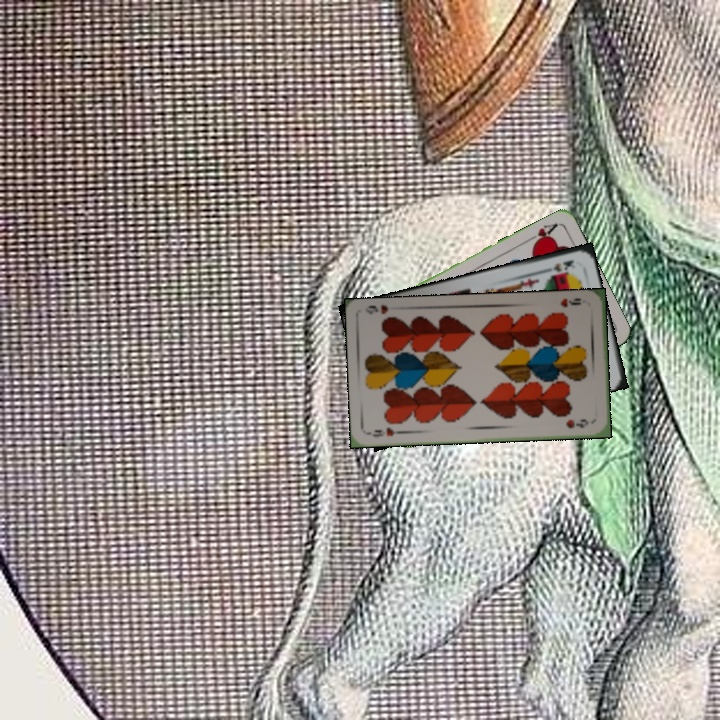H9: (365, 423, 406, 440), (557, 294, 583, 310)
HA: (523, 219, 561, 248)
SK: (539, 256, 576, 275)
